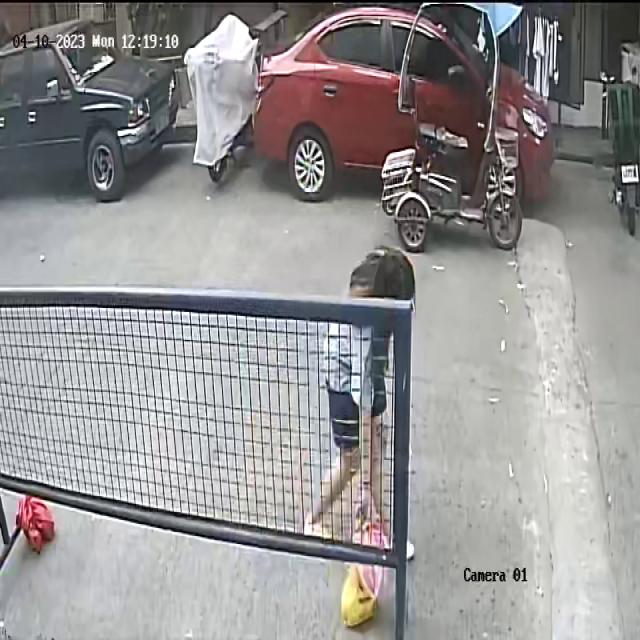garbage_dumping: (332, 485, 387, 625)
